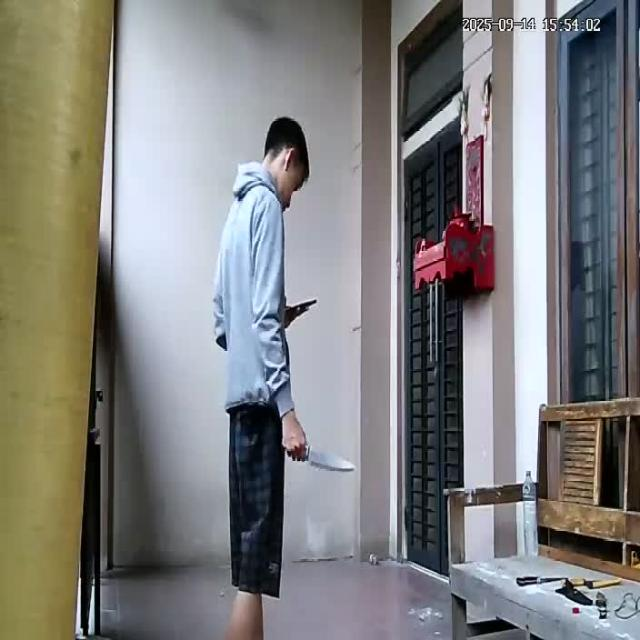senjata_tajam: (306, 445, 358, 472)
